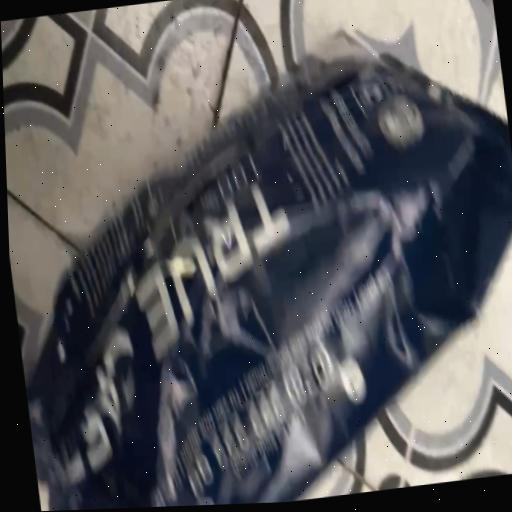cafe_hat: (17, 37, 512, 511)
